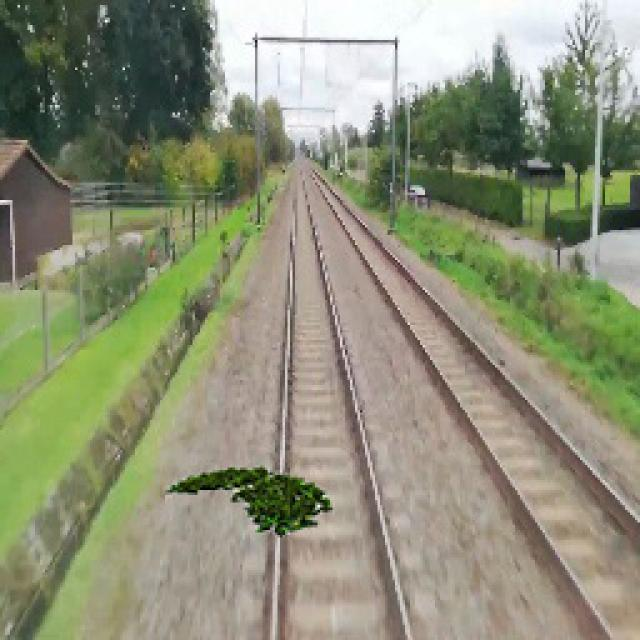danger: (166, 456, 336, 544)
rail: (225, 156, 448, 640)
